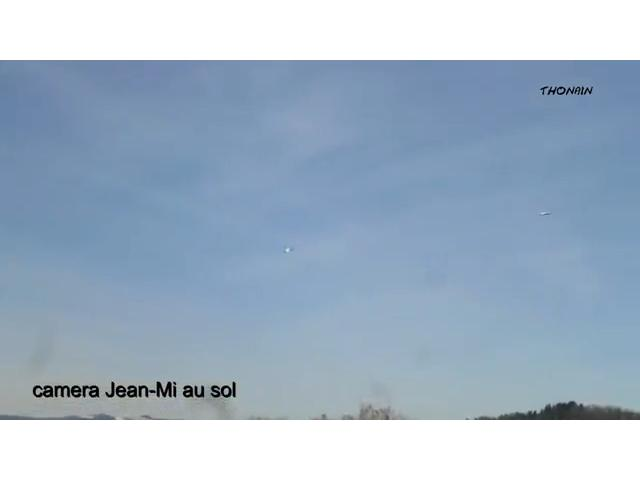Anti-Drone: (524, 209, 558, 221), (278, 244, 302, 258)
